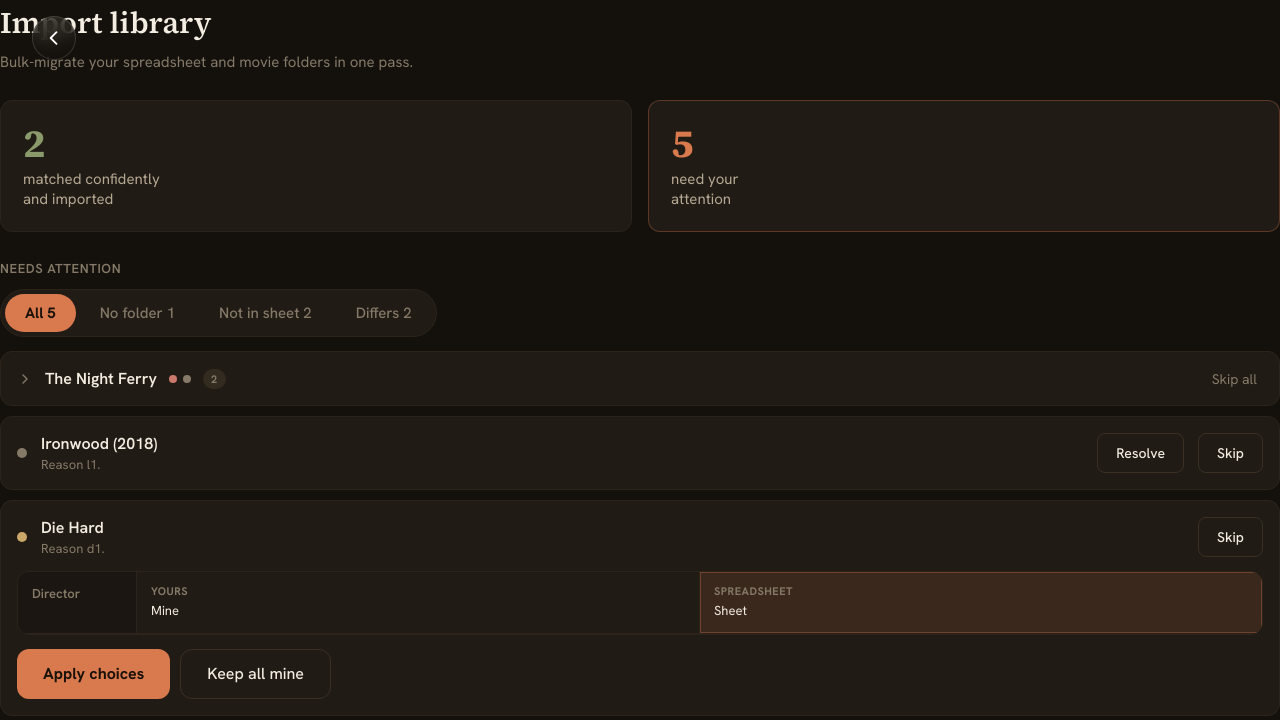
ImportFlow — Keep all mine beside differs › posts the differs ids to the same dismiss and redraws from the echo
Expected: the text "Needs attention" is shown, [0,260,121,277]
Click the button "Differs 2".
click(384, 313)  # box [336,294,432,332]
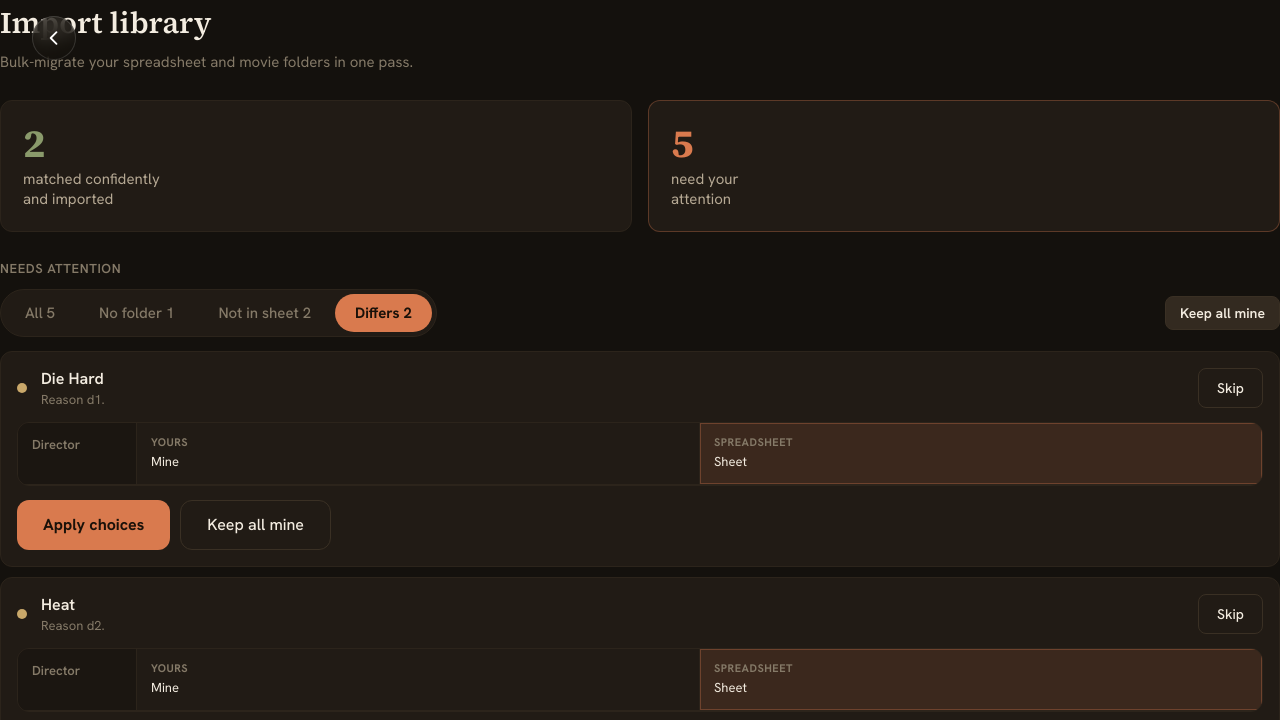
Click the 1st button "Keep all mine".
click(1222, 313)  # box [1165,296,1279,330]
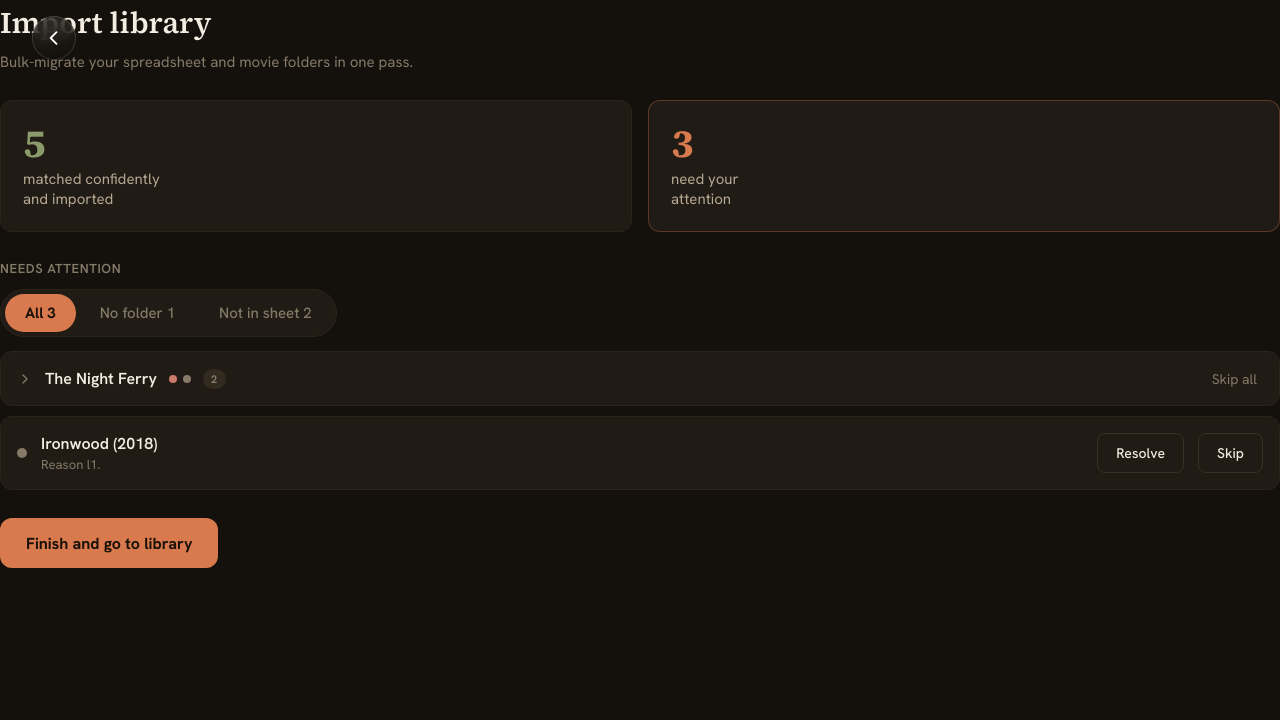
Now the text "Die Hard" is gone
Now the text "Heat" is gone
